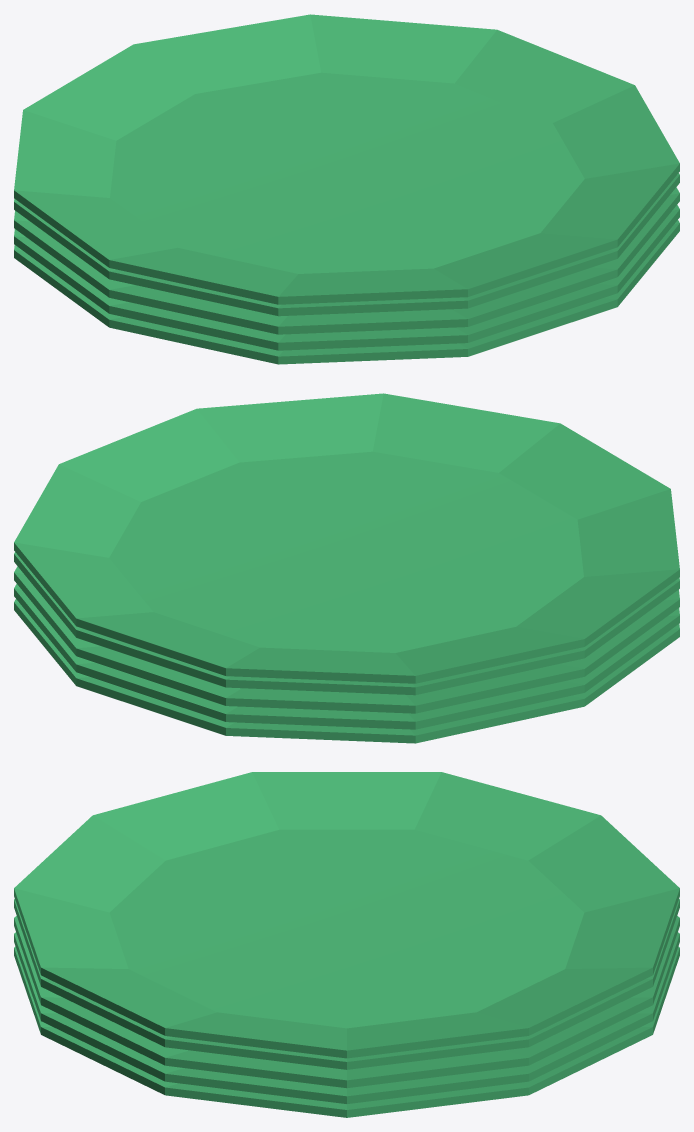
File: plate_2.fbx
The picture shows the model from 3 angles, top to bottom: view 1: azimuth 30°, elevation 25°; view 2: azimuth 150°, elevation 25°; view 3: azimuth 270°, elevation 25°; orthographic projection.
Visible parts, largest first — view 1: pCylinder102; view 2: pCylinder102; view 3: pCylinder102.
Boxes of the visible parts, <box> form: pCylinder102: <box>14,14,679,364</box>; pCylinder102: <box>14,393,679,743</box>; pCylinder102: <box>14,772,679,1117</box>.
Size of the model in its own units: 0.4462 by 0.0682 by 0.4508.
